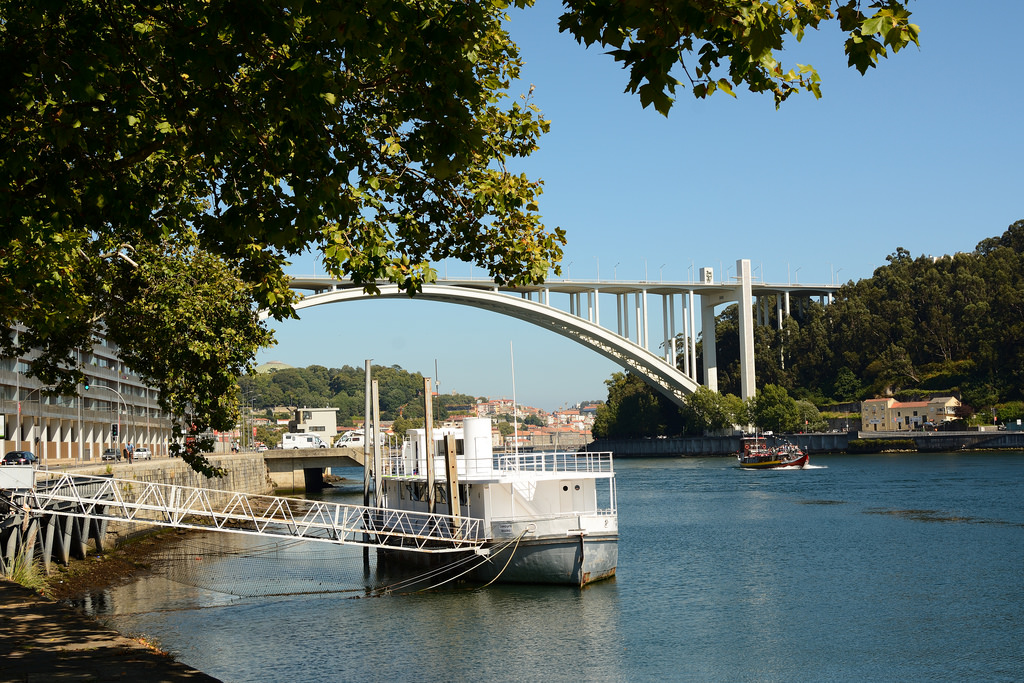arrabida: (272, 257, 844, 436)
